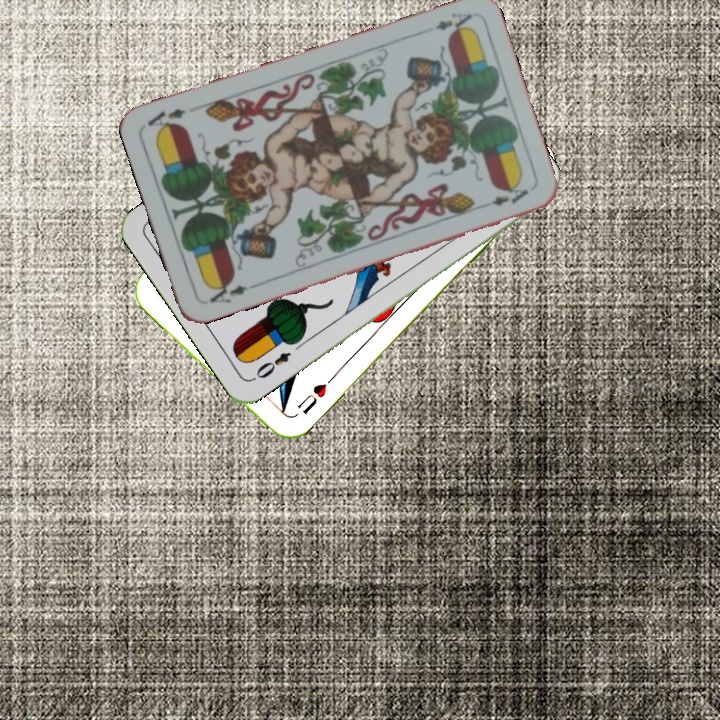EA: (204, 277, 259, 307), (431, 9, 475, 38)
EO: (251, 348, 294, 382)
HU: (292, 379, 330, 417)
